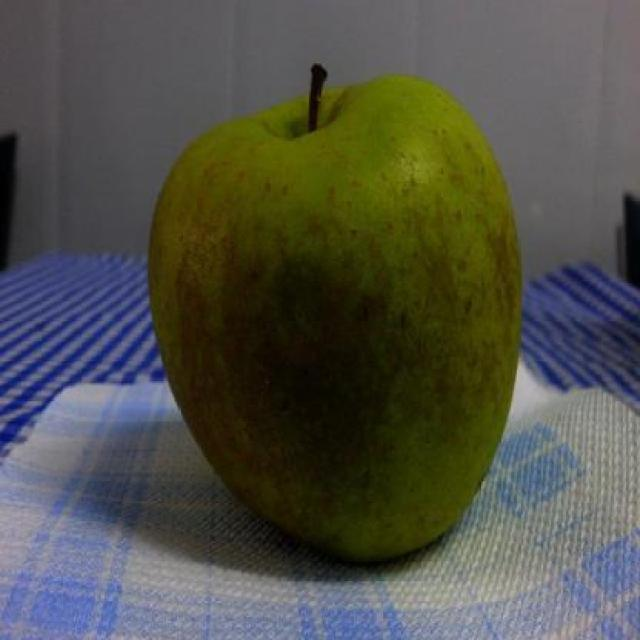Apple: (146, 65, 522, 567)
